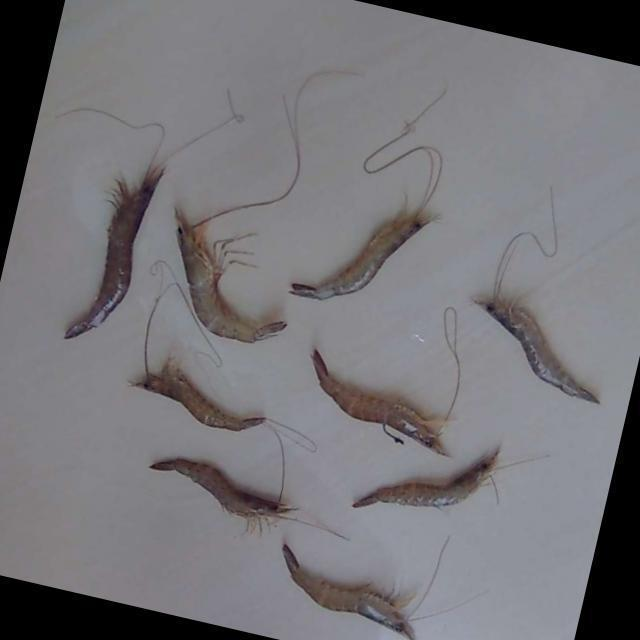shrimp: (64, 167, 164, 338), (176, 209, 286, 342), (311, 350, 448, 454), (282, 545, 417, 640), (476, 300, 601, 402), (290, 215, 438, 299), (132, 364, 266, 431), (352, 449, 500, 508), (149, 459, 293, 519)
